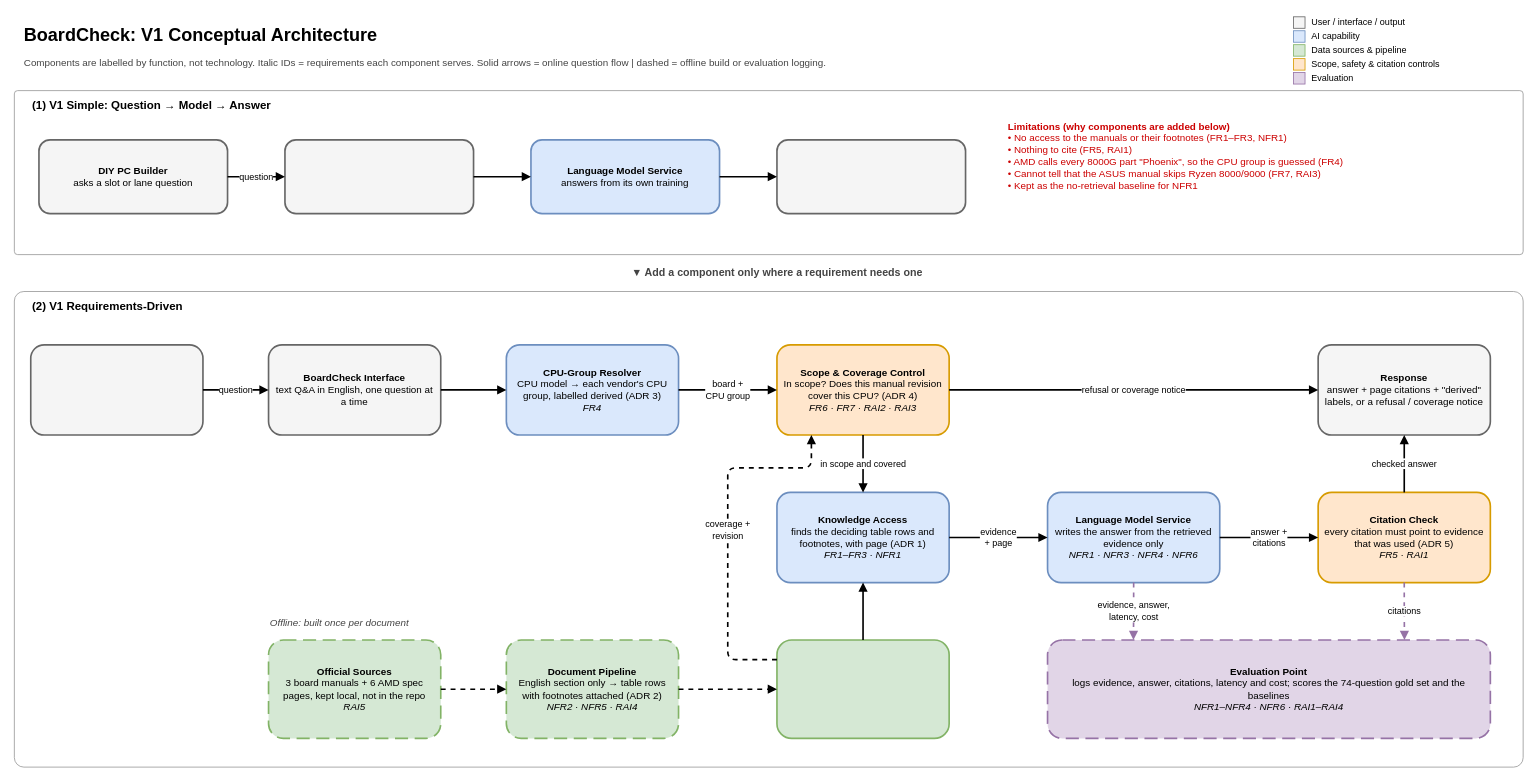
Image size: 1538x781. Some labels were removed from this diagram. Here are the shapes that lost their labels. From the top down, the box of each, then its label:
(284, 139, 474, 214): BoardCheck Interface text Q&A in English
(776, 139, 966, 214): Answer no source, no page
(30, 344, 203, 435): DIY PC Builder asks a slot or lane question about one of the three boards
(776, 639, 950, 739): Knowledge Source rows · footnotes · page · revision · CPU coverage FR5 · RAI3
